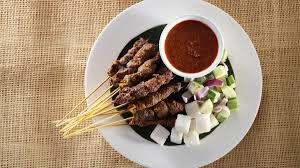sate: (96, 13, 264, 153)
